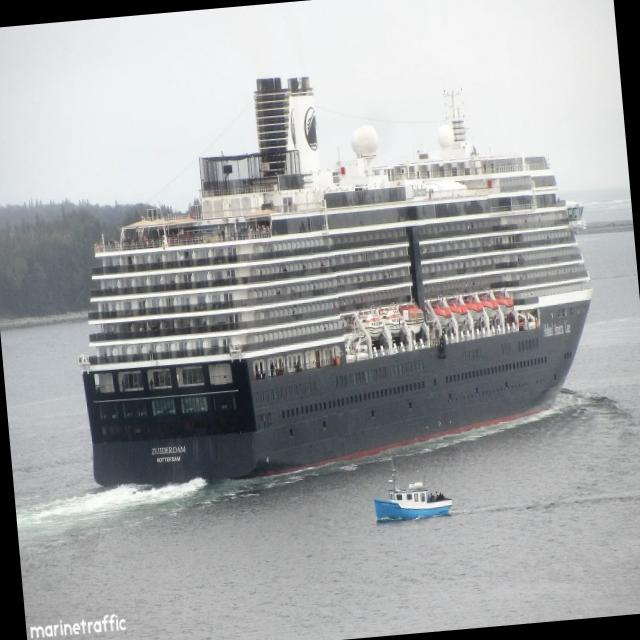Cruise: (79, 78, 592, 485)
